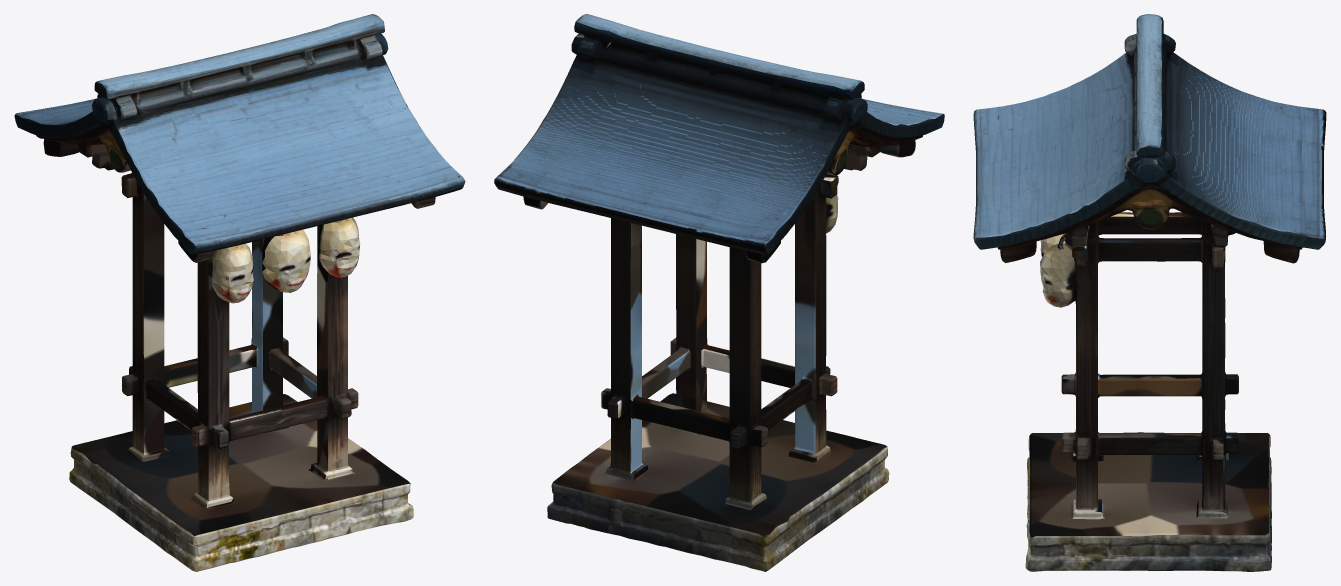
Rendered from traveler_env_coast_kamen_sewn_face_shrine_00001_.glb.
The picture shows the model from 3 angles, left to right: view 1: azimuth 30°, elevation 25°; view 2: azimuth 150°, elevation 25°; view 3: azimuth 270°, elevation 25°; orthographic projection. The views are drawn at different scales.
Parts seen in each view (by area): view 1: temp_mesh.ply; view 2: temp_mesh.ply; view 3: temp_mesh.ply.
Part boxes in pixels (x1,y1,x2,y2): temp_mesh.ply: [14, 14, 465, 571]; temp_mesh.ply: [494, 14, 944, 571]; temp_mesh.ply: [973, 14, 1326, 571].
Bounding box in the file's own units: 1.3 × 1.97 × 1.44.
1 material, 1 textured.
